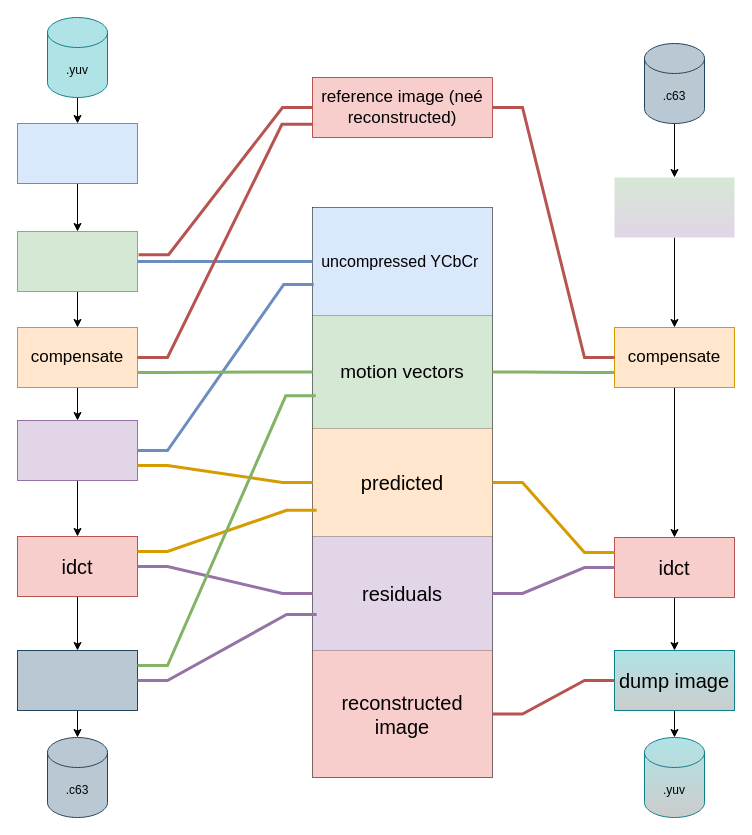
Image size: 752x835. Some labels were removed from this diagram. Each missing label, with the centre of its shape:
"estimate" goes at (x=77, y=261).
"parse enc file" goes at (x=674, y=207).
"qct" goes at (x=77, y=450).
"read file" goes at (x=77, y=153).
"write enc. file" goes at (x=77, y=680).
